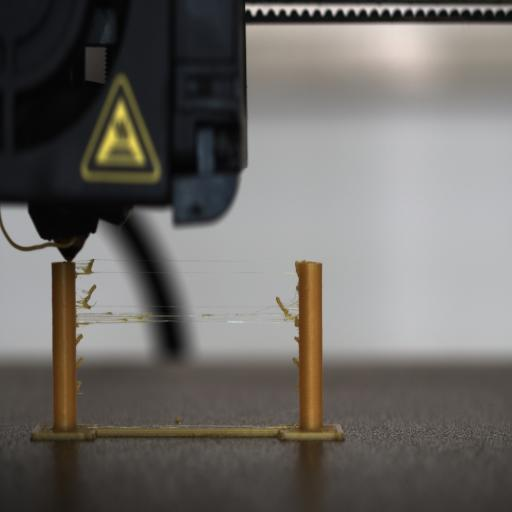stringing: (77, 310, 157, 324), (75, 284, 97, 310), (275, 296, 297, 322), (75, 259, 95, 275), (75, 333, 83, 345), (76, 356, 83, 368), (76, 380, 82, 392), (293, 357, 299, 367), (294, 336, 300, 344), (293, 422, 299, 428), (74, 273, 80, 279), (296, 382, 300, 390), (105, 311, 113, 315), (75, 323, 80, 329)
